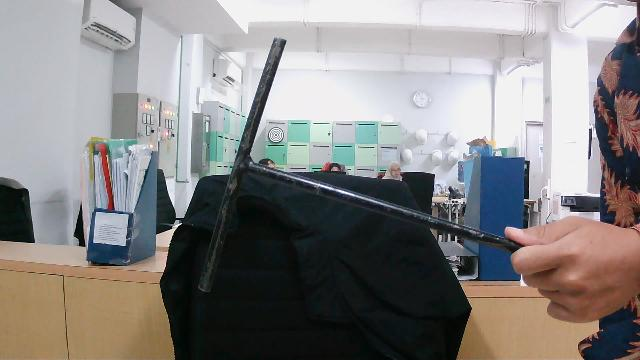kunci_t: (177, 33, 575, 308)
